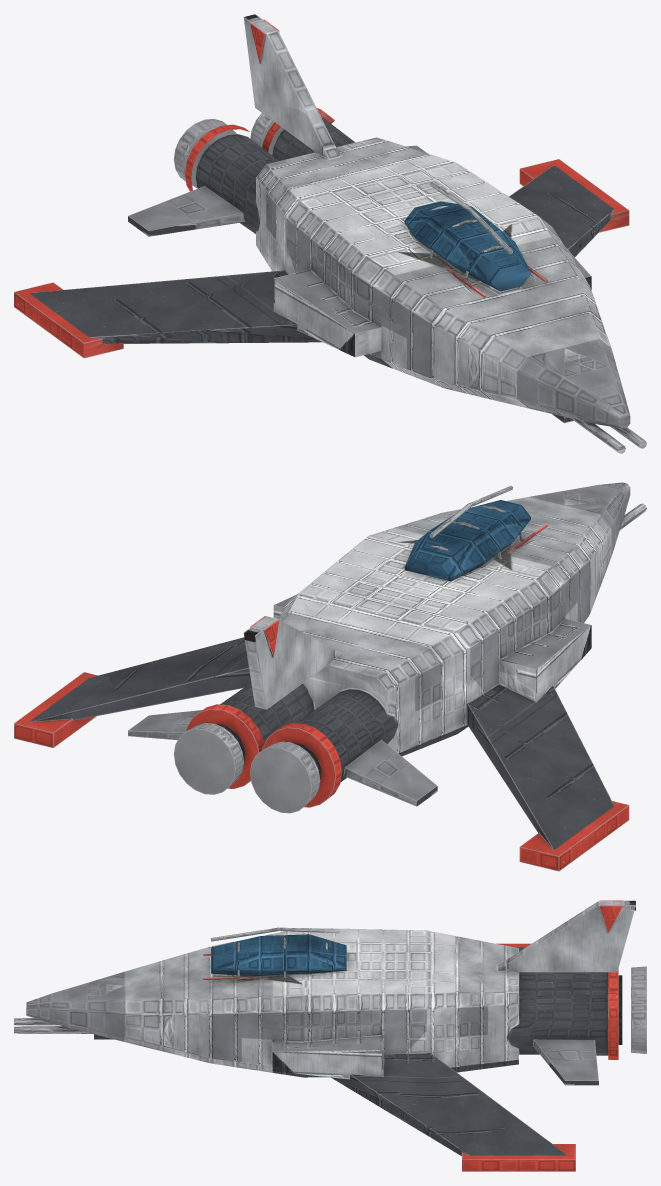
Rendered from sd_ship_sahin.glb.
The picture shows the model from 3 angles, top to bottom: view 1: azimuth 30°, elevation 25°; view 2: azimuth 150°, elevation 25°; view 3: azimuth 270°, elevation 25°; orthographic projection. The views are drawn at different scales.
Visible parts, largest first — view 1: LOD0_body, LOD1_body; view 2: LOD0_body, LOD1_body; view 3: LOD0_body, LOD1_body.
Part boxes in pixels (<box>): LOD0_body: <box>14,14,646,453</box>; LOD1_body: <box>14,15,618,431</box>; LOD0_body: <box>14,482,646,871</box>; LOD1_body: <box>24,484,622,855</box>; LOD0_body: <box>14,900,646,1171</box>; LOD1_body: <box>86,902,635,1156</box>.
Bounding box in the file's own units: 0.8074 × 0.2802 × 1.
Materials: 1 (1 with a texture image).
